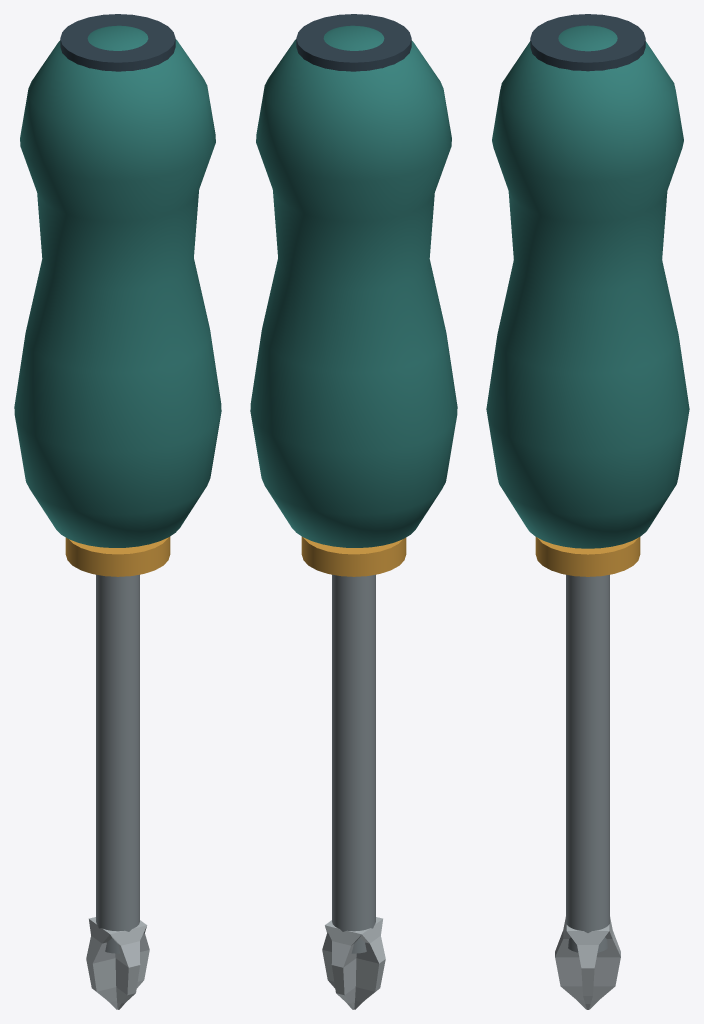
File: workshop-screwdriver.glb
3 views of the same model, side by side, from view 1: azimuth 30°, elevation 25°; view 2: azimuth 150°, elevation 25°; view 3: azimuth 270°, elevation 25° (orthographic).
Visible parts, largest first — view 1: Teal_Handle, Steel_Shaft, Flush_End_Cap, mesh_4, Brass_Ferrule; view 2: Teal_Handle, Steel_Shaft, Flush_End_Cap, mesh_4, Brass_Ferrule; view 3: Teal_Handle, Steel_Shaft, Flush_End_Cap, mesh_4, Brass_Ferrule.
Boxes of the visible parts, x1,y1,x2,y2 form: Teal_Handle: (14, 25, 221, 547); Steel_Shaft: (96, 574, 139, 953); Flush_End_Cap: (60, 14, 175, 71); mesh_4: (86, 917, 149, 1009); Brass_Ferrule: (65, 536, 170, 576); Teal_Handle: (250, 25, 457, 547); Steel_Shaft: (332, 574, 375, 953); Flush_End_Cap: (296, 14, 411, 71); mesh_4: (322, 917, 385, 1009); Brass_Ferrule: (301, 536, 406, 576); Teal_Handle: (486, 25, 689, 548); Steel_Shaft: (566, 574, 609, 952); Flush_End_Cap: (530, 14, 645, 71); mesh_4: (555, 917, 620, 1009); Brass_Ferrule: (535, 537, 640, 576).
Bounding box in the file's own units: 0.0762 × 0.391 × 0.074.
